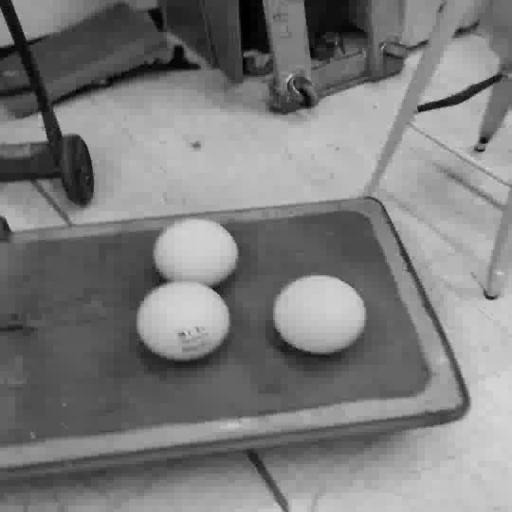fuel: (137, 282, 230, 361), (274, 276, 366, 354), (154, 219, 238, 286)
